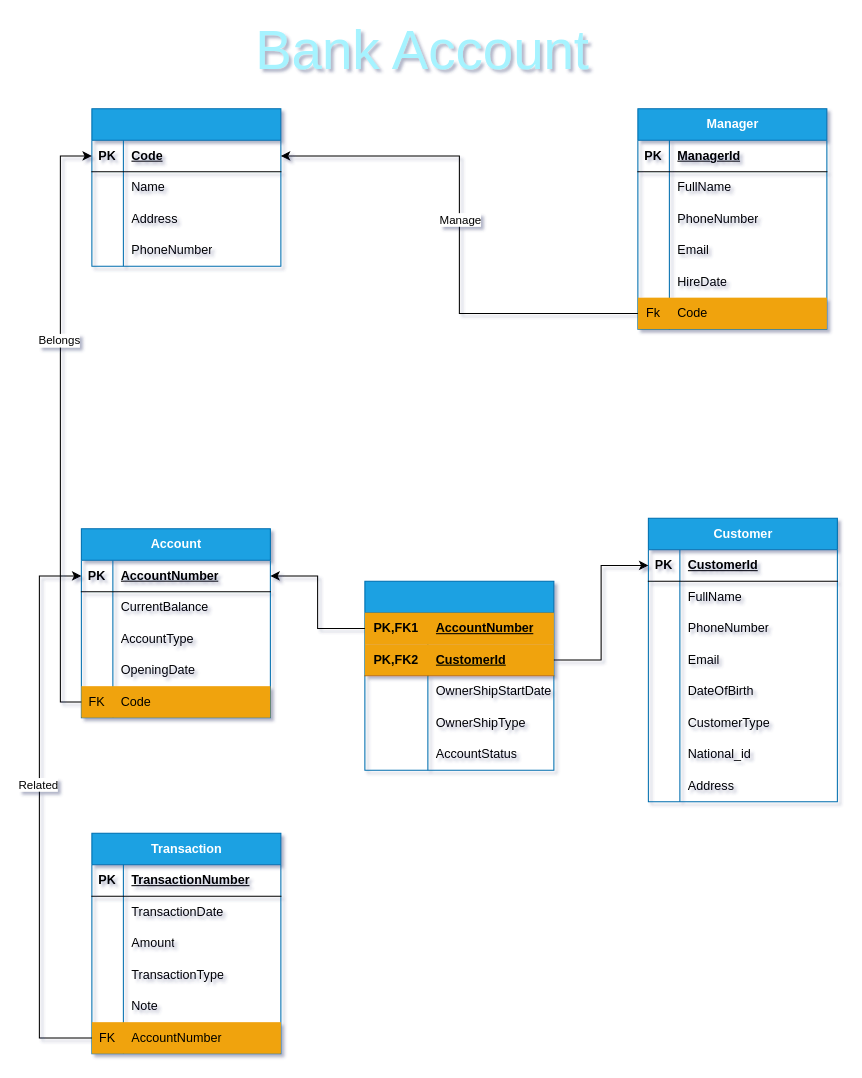
Some shapes in this 862 by 1078 pixel diagram are drawn without their labels. Here are the shapes that lost their labels. From the top down, the box of each, then its label:
(91, 108, 281, 266): Brances
(364, 580, 554, 770): Account_Customer
